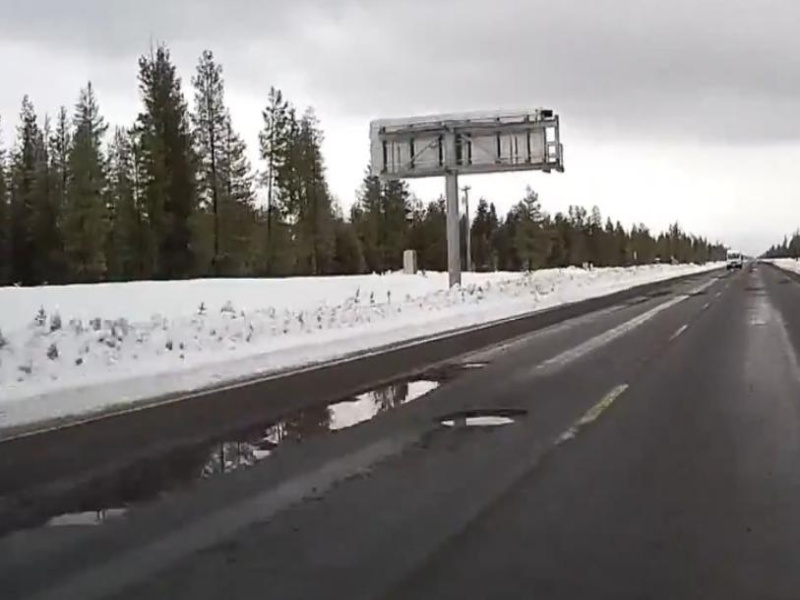pothole: (280, 372, 447, 444), (436, 408, 521, 432)
